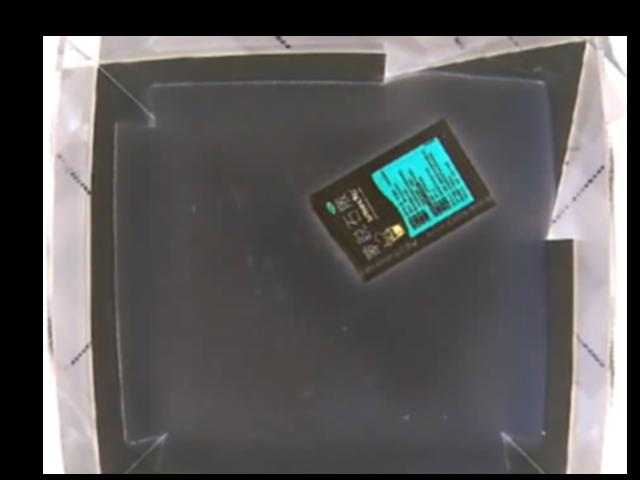Medicine: (305, 116, 497, 281)
